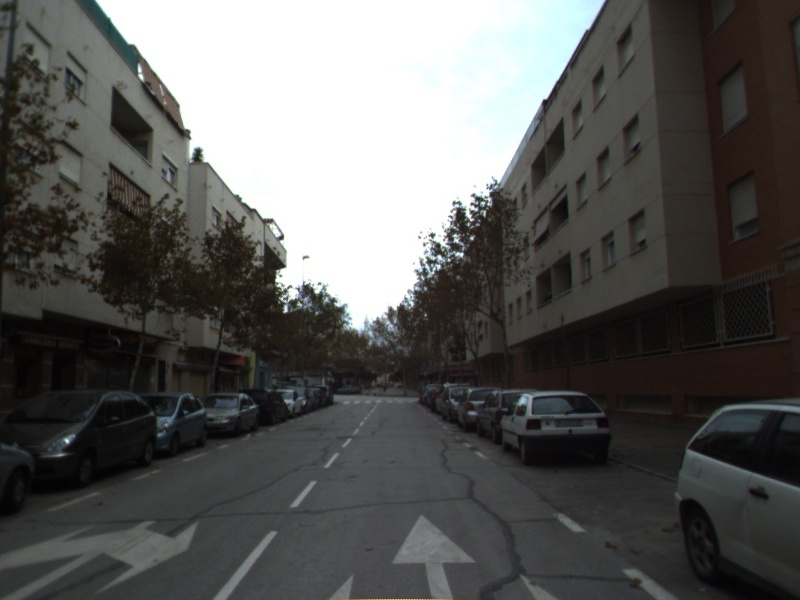STRAIGHT: (389, 509, 480, 600)
